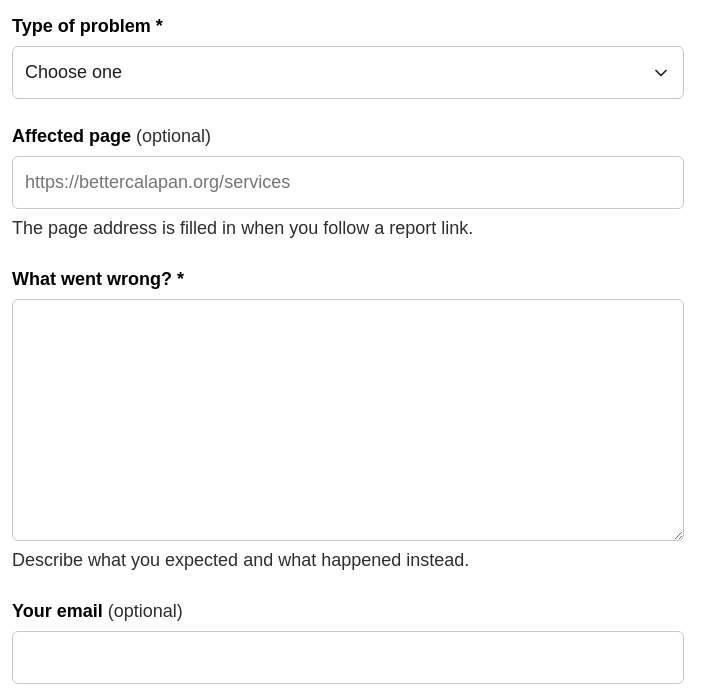
Test: ReportForm › renders report form text at no less than 18 pixels
Click the button "Choose one".
click(74, 72)  # box [12, 46, 684, 99]
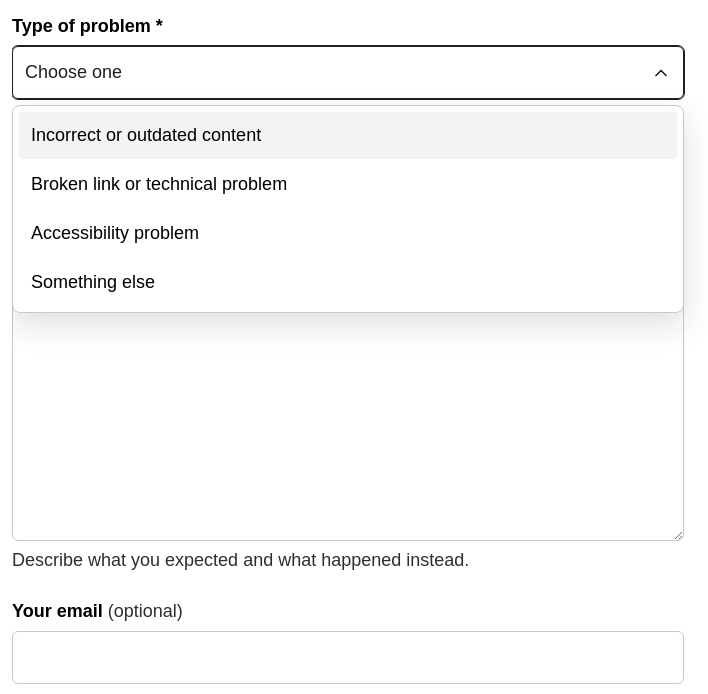
Expected: the label "Type of problem *" is shown, [12, 16, 163, 36]
Result: the option with class "report-select-item" showing "Incorrect or outdated content" is shown at [19, 112, 677, 159]
